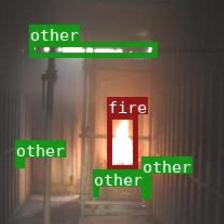fire: (106, 114, 137, 169)
